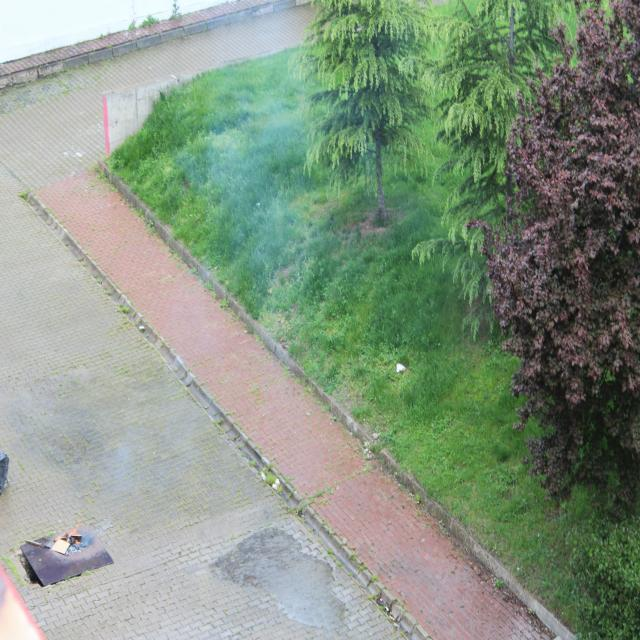fire: (37, 512, 93, 560)
